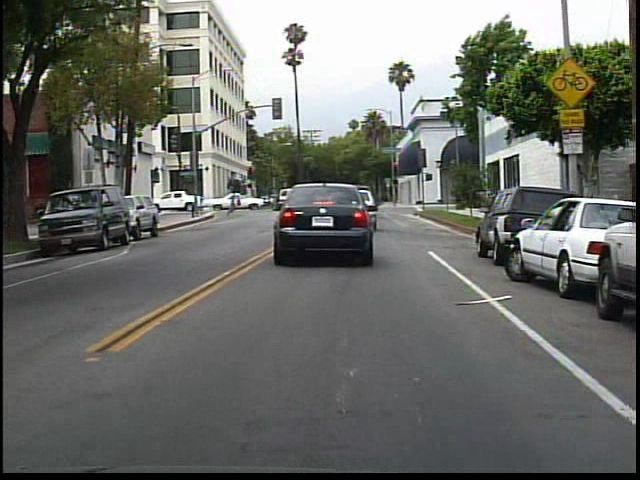person: (222, 187, 242, 218)
